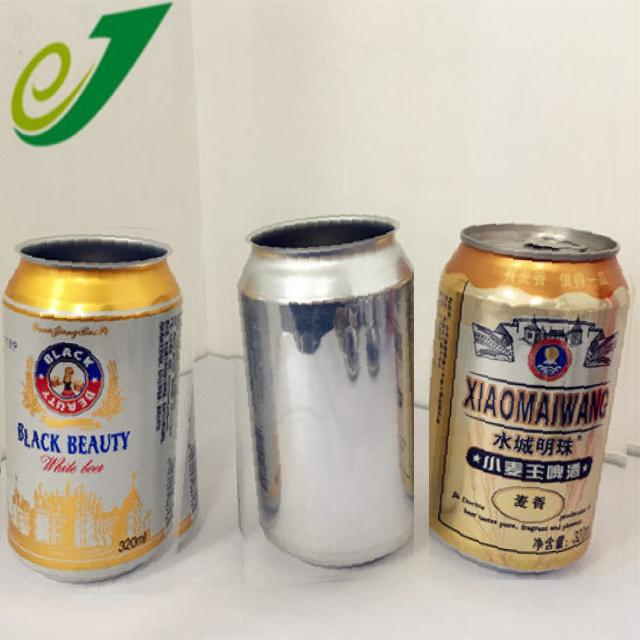Cans: (429, 193, 640, 580), (1, 216, 206, 594), (220, 205, 414, 588)
